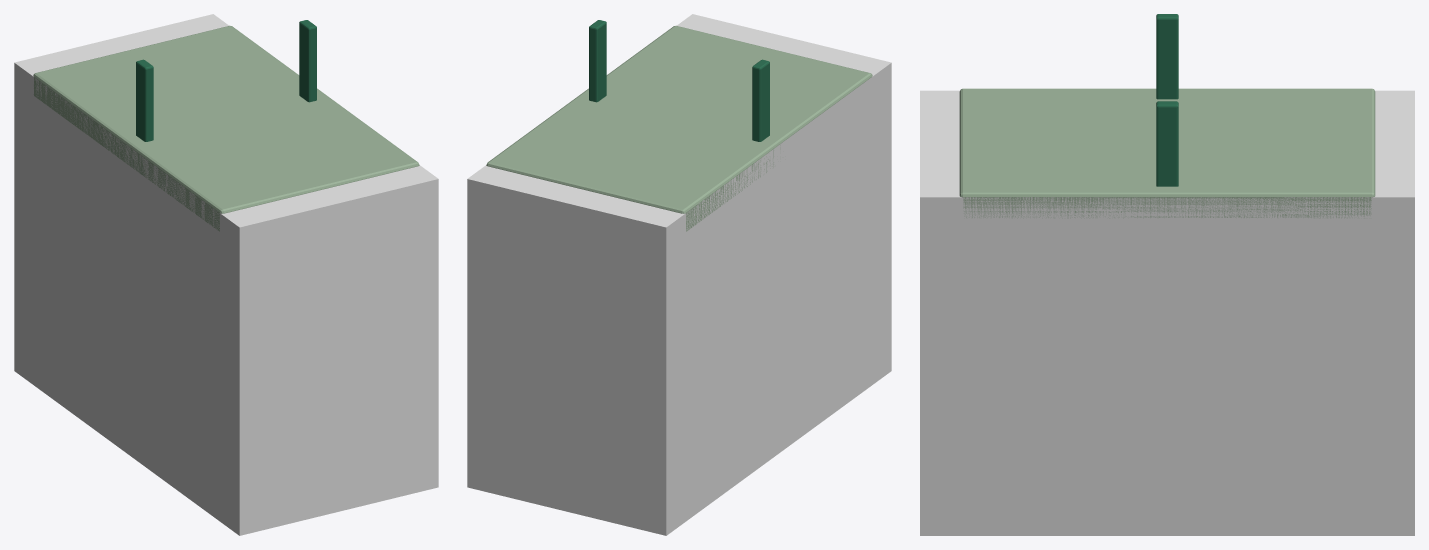
Rendered from golf-cart_retail.glb.
3 views of the same model, side by side, from view 1: azimuth 30°, elevation 25°; view 2: azimuth 150°, elevation 25°; view 3: azimuth 270°, elevation 25° (orthographic). The views are drawn at different scales.
Visible parts, largest first — view 1: COL_golf-cart, MESH_Canopy, MESH_RoofPost, MESH_RoofPost.001; view 2: COL_golf-cart, MESH_Canopy, MESH_RoofPost, MESH_RoofPost.001; view 3: COL_golf-cart, MESH_Canopy, MESH_RoofPost.001, MESH_RoofPost.
Part boxes in pixels (left/top/right/bottom): COL_golf-cart: left=14, top=14, right=438, bottom=535; MESH_Canopy: left=33, top=25, right=419, bottom=231; MESH_RoofPost: left=136, top=59, right=153, bottom=141; MESH_RoofPost.001: left=299, top=20, right=316, bottom=102; COL_golf-cart: left=467, top=14, right=891, bottom=535; MESH_Canopy: left=486, top=25, right=872, bottom=231; MESH_RoofPost: left=752, top=59, right=769, bottom=141; MESH_RoofPost.001: left=589, top=20, right=606, bottom=102; COL_golf-cart: left=920, top=90, right=1414, bottom=535; MESH_Canopy: left=959, top=88, right=1375, bottom=218; MESH_RoofPost.001: left=1156, top=101, right=1178, bottom=186; MESH_RoofPost: left=1156, top=14, right=1178, bottom=99.
Size of the model in its own units: 1.25 by 2.31 by 2.45.
